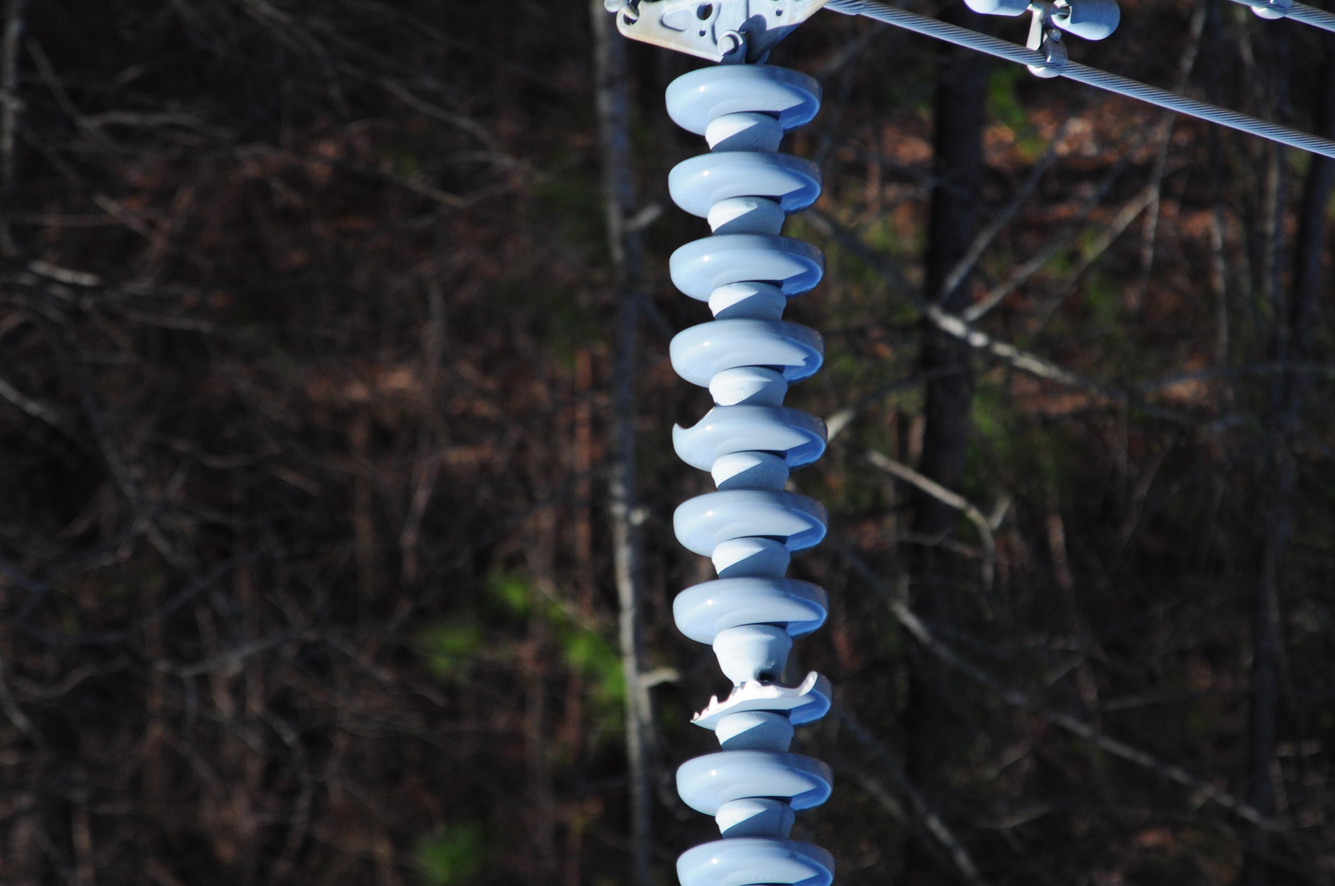damaged: (684, 663, 828, 729), (671, 398, 736, 450)
hammer: (970, 0, 1120, 83)
insulator: (668, 65, 842, 886)
